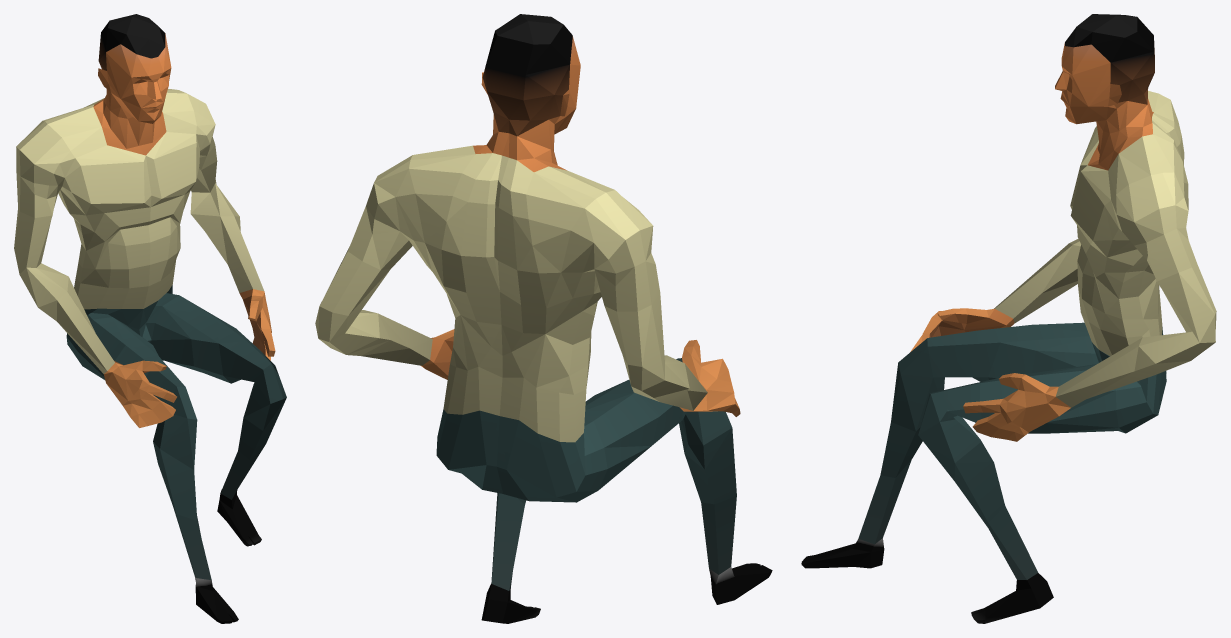
File: PUPET_StandChair.obj
3 renders of one model, left to right at view 1: azimuth 30°, elevation 25°; view 2: azimuth 150°, elevation 25°; view 3: azimuth 270°, elevation 25°, orthographic. The views are drawn at different scales.
Visible parts, largest first — view 1: Archer; view 2: Archer; view 3: Archer.
Boxes of the visible parts, x1,y1,x2,y2 form: Archer: (14,14,286,623); Archer: (315,14,772,623); Archer: (801,14,1216,623).
Bounding box in the file's own units: 0.6755 × 1.39 × 0.9144.
